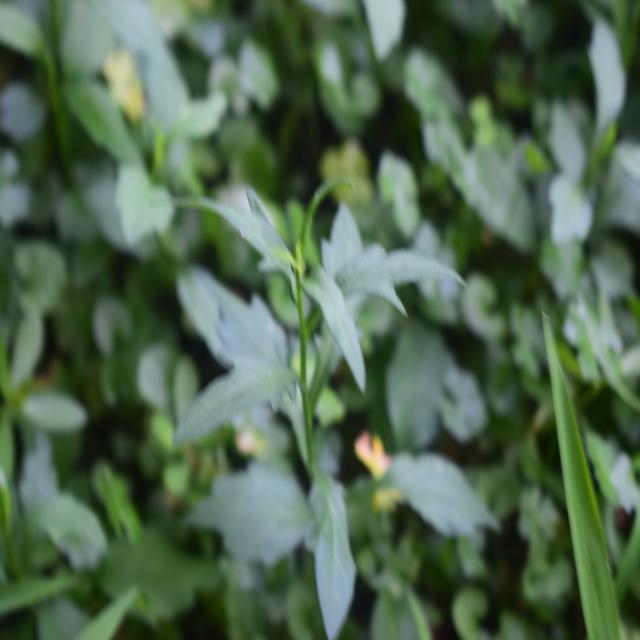Indian aster: (193, 158, 438, 596)
